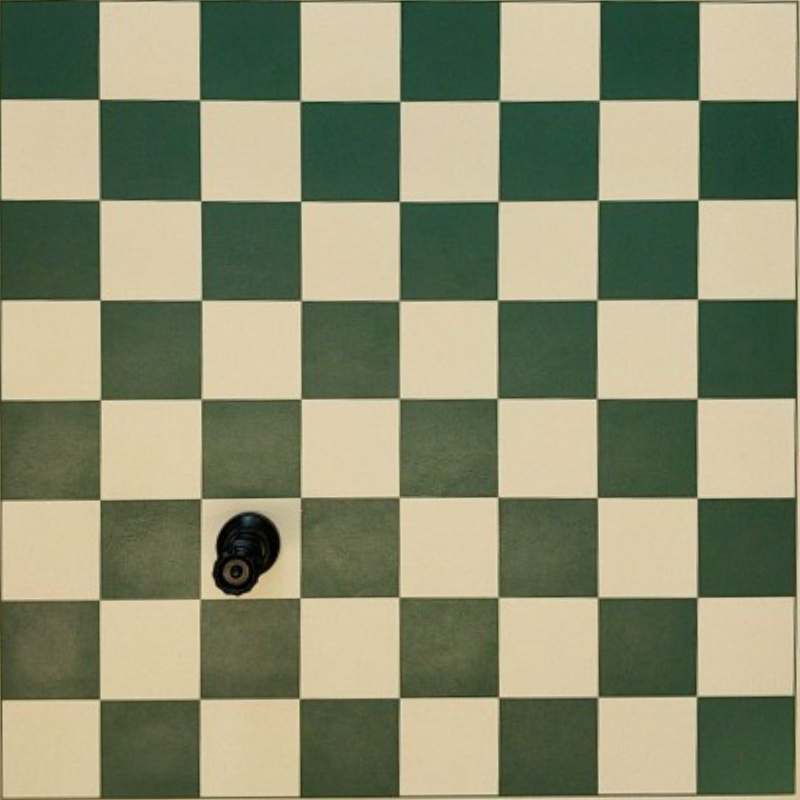black-queen: (212, 511, 281, 595)
